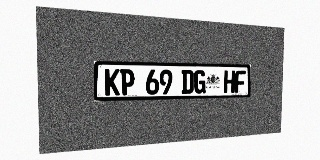6: (146, 69, 159, 95)
9: (159, 69, 172, 94)
D: (181, 70, 194, 94)
F: (235, 70, 246, 93)
G: (194, 70, 206, 94)
H: (224, 70, 235, 93)
K: (105, 69, 120, 95)
P: (120, 69, 135, 95)
